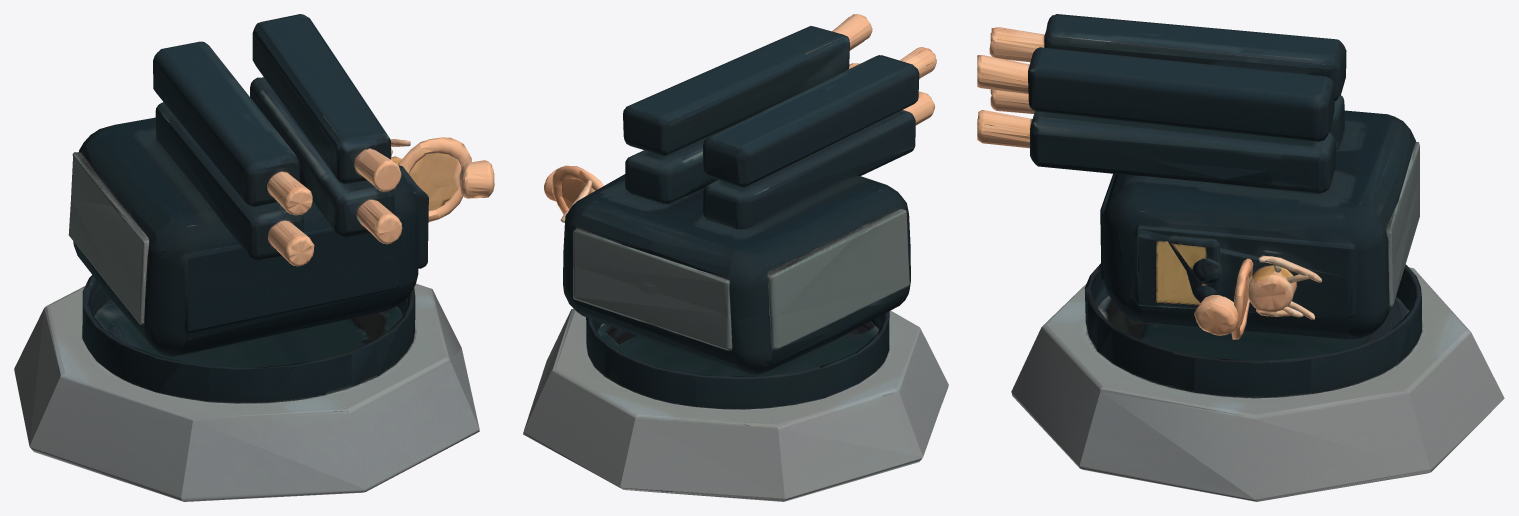
The model's file is aa-turret.glb.
3 views of the same model, side by side, from view 1: azimuth 30°, elevation 25°; view 2: azimuth 150°, elevation 25°; view 3: azimuth 270°, elevation 25° (orthographic). The views are drawn at different scales.
Size of the model in its own units: 0.9648 by 0.7266 by 0.9961.
1 material, 1 textured.
